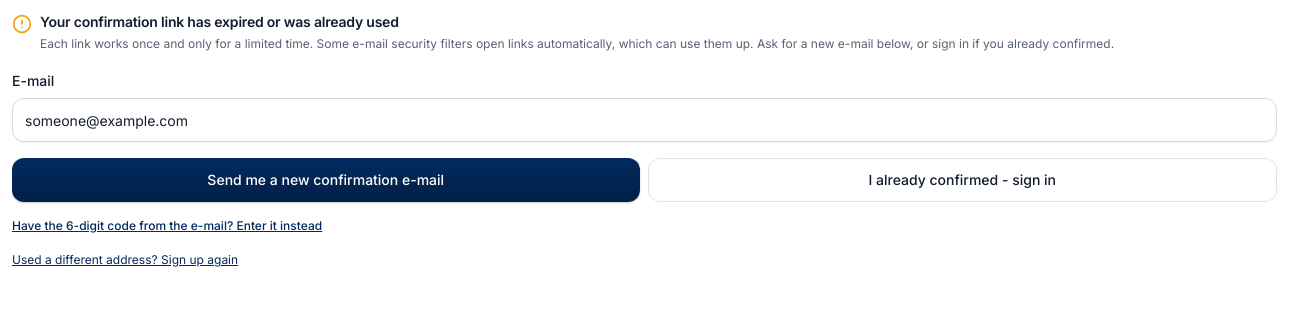
Test: expired or used e-mail links › a new confirmation e-mail gives the same neutral answer and a 60 s cooldown
Step 1. Click the button "Send me a new confirmation e-mail" → (326, 180), box 12,158 -> 640,202
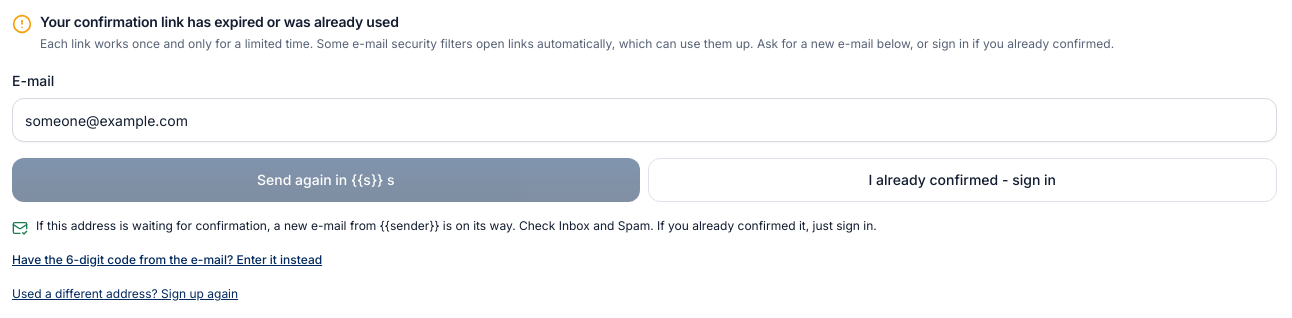
Check: the text "If this address is waiting for confirmation" is shown, box 36,218 -> 877,233
